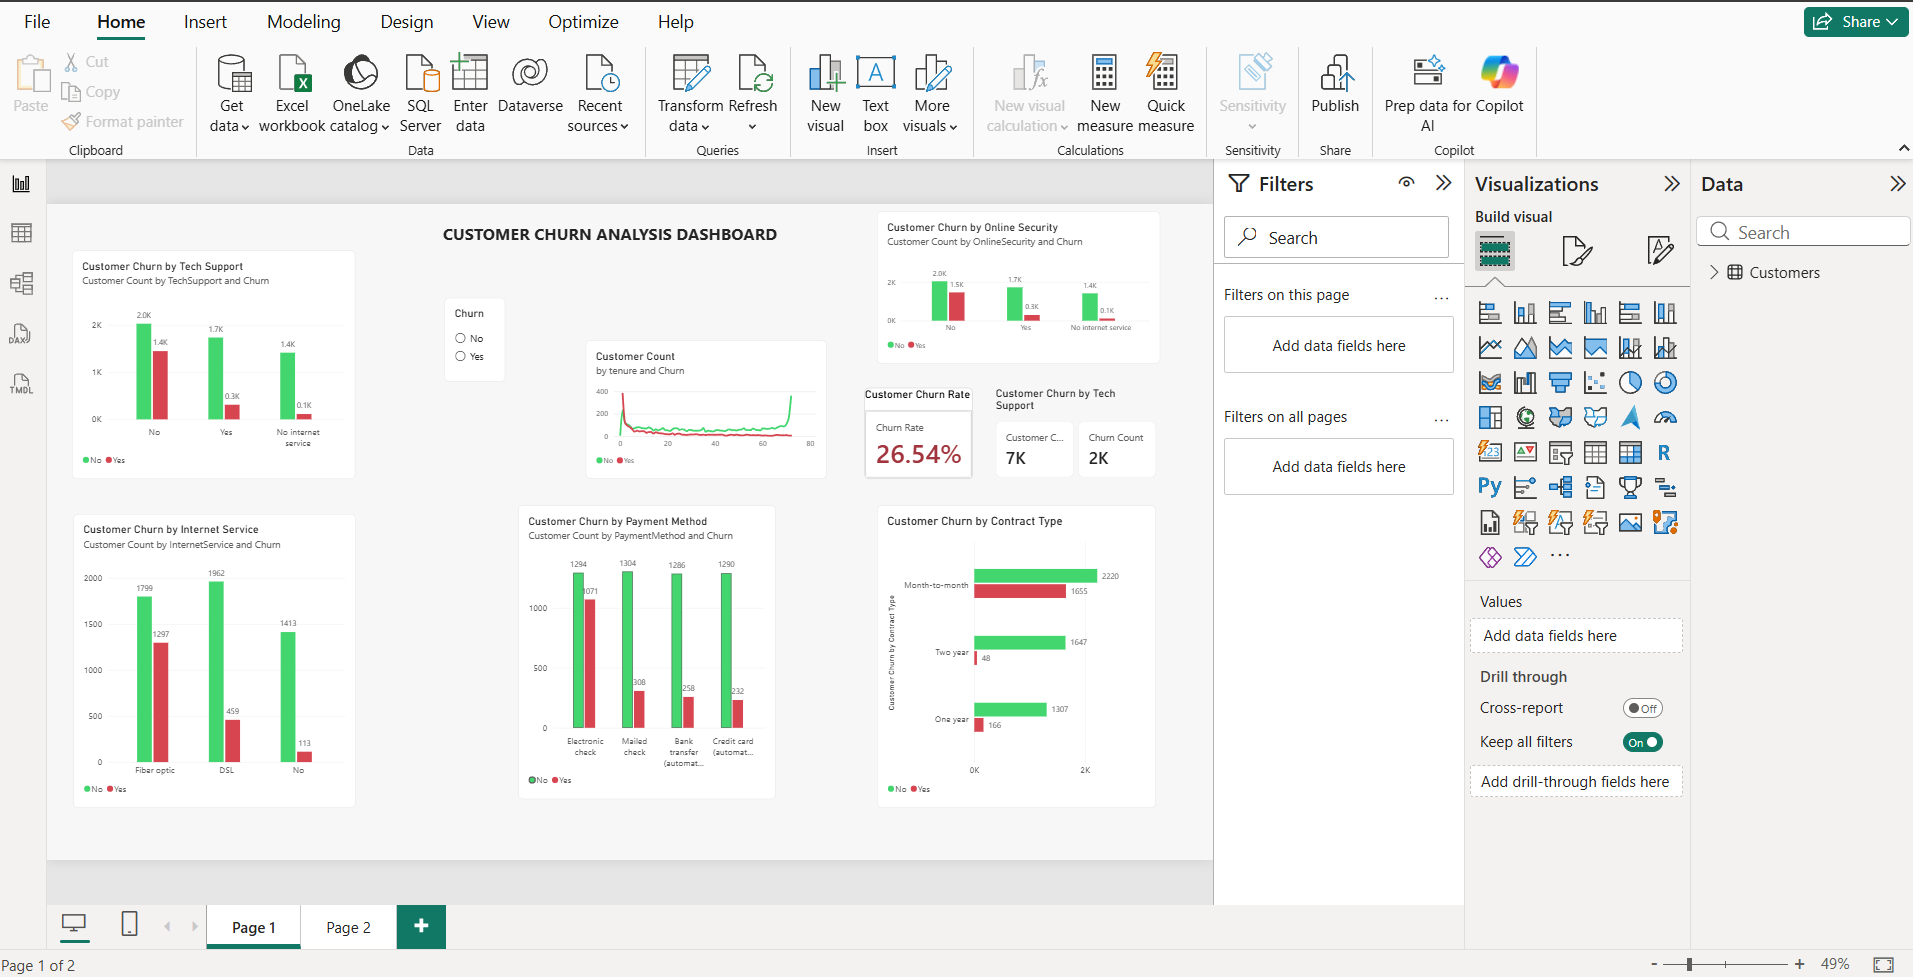

The page's visual inventory and layout, read from the dashboard file:
{"tool":"powerbi","page":{"name":"Page 1","canvas":[1920,1080],"ordinal":0},"visuals":[{"type":"cardVisual","title":"Customer Churn Rate","fields":{"Data":["Customers.Churn Rate"]},"box":[1278.3,306.7,178.3,150],"z":0},{"type":"cardVisual","title":"Customer Churn by Tech Support","fields":{"Data":["Customers.Customer Count","Customers.Churn Count"]},"box":[1010,306.7,265,150],"z":1},{"type":"clusteredBarChart","title":"Customer Churn by Contract Type","fields":{"Category":["Customers.Contract"],"Series":["Customers.Churn"],"Y":["Customers.Customer Count"]},"box":[976.7,496.7,460,468.3],"z":2},{"type":"lineChart","fields":{"Category":["Customers.tenure"],"Series":["Customers.Churn"],"Y":["Customers.Customer Count"]},"box":[593.3,263.3,396.7,228.3],"z":3},{"type":"clusteredColumnChart","title":"Customer Churn by Payment Method","fields":{"Category":["Customers.PaymentMethod"],"Series":["Customers.Churn"],"Y":["Customers.Customer Count"]},"box":[523.3,496.7,425,468.3],"z":4},{"type":"clusteredColumnChart","title":"Customer Churn by Internet Service","fields":{"Category":["Customers.InternetService"],"Series":["Customers.Churn"],"Y":["Customers.Customer Count"]},"box":[18.3,496.7,465,468.3],"z":5},{"type":"clusteredColumnChart","title":"Customer Churn by Tech Support","fields":{"Category":["Customers.TechSupport"],"Series":["Customers.Churn"],"Y":["Customers.Customer Count"]},"box":[0,115,466.7,376.7],"z":6},{"type":"clusteredColumnChart","title":"Customer Churn by Online Security","fields":{"Category":["Customers.OnlineSecurity"],"Series":["Customers.Churn"],"Y":["Customers.Customer Count"]},"box":[990,13.3,466.7,250],"z":7},{"type":"textbox","box":[1467,13,453,250],"z":8},{"type":"textbox","box":[153.3,13.3,821.7,101.7],"z":9},{"type":"listSlicer","fields":{"Values":["Customers.Churn"]},"box":[523.3,115,100,138.3],"z":10}]}

Visuals, with their boxes on the page's 1920x1080 design canvas (x1, y1, x2, y2). These are canvas units, not pixel positions in the 1913x977 screenshot, which may show the page scaled, cropped or inside an application window:
"Customer Churn Rate" cardVisual: bbox=[1278, 307, 1457, 457]
"Customer Churn by Tech Support" cardVisual: bbox=[1010, 307, 1275, 457]
"Customer Churn by Contract Type" clusteredBarChart: bbox=[977, 497, 1437, 965]
lineChart - Customers.tenure x Customers.Churn: bbox=[593, 263, 990, 492]
"Customer Churn by Payment Method" clusteredColumnChart: bbox=[523, 497, 948, 965]
"Customer Churn by Internet Service" clusteredColumnChart: bbox=[18, 497, 483, 965]
"Customer Churn by Tech Support" clusteredColumnChart: bbox=[0, 115, 467, 492]
"Customer Churn by Online Security" clusteredColumnChart: bbox=[990, 13, 1457, 263]
textbox: bbox=[1467, 13, 1920, 263]
textbox: bbox=[153, 13, 975, 115]
listSlicer - Customers.Churn: bbox=[523, 115, 623, 253]
